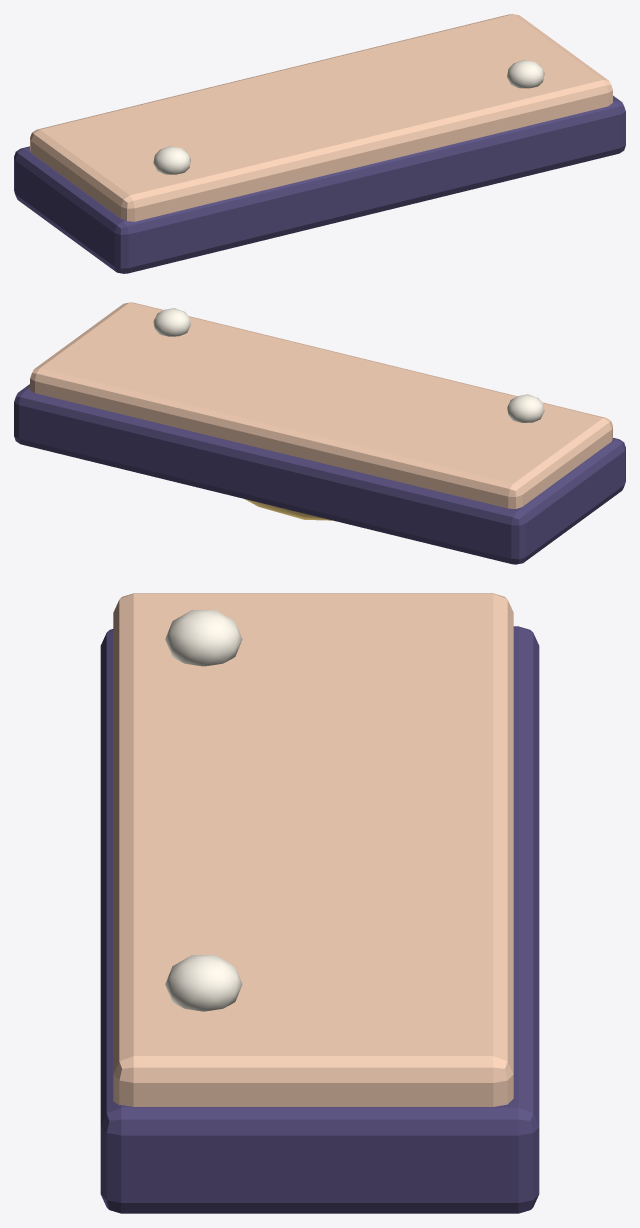
Rendered from pearl_music_bar_1.glb.
The picture shows the model from 3 angles, top to bottom: view 1: azimuth 30°, elevation 25°; view 2: azimuth 150°, elevation 25°; view 3: azimuth 270°, elevation 25°; orthographic projection. The views are drawn at different scales.
Visible parts, largest first — view 1: pearl_music_bar_1.001; view 2: pearl_music_bar_1.001; view 3: pearl_music_bar_1.001.
Part boxes in pixels (x1=…): pearl_music_bar_1.001: x1=14, y1=14, x2=625, y2=273; pearl_music_bar_1.001: x1=14, y1=302, x2=625, y2=564; pearl_music_bar_1.001: x1=100, y1=593, x2=539, y2=1213.
Size of the model in its own units: 7.31 by 1.7 by 2.72.
